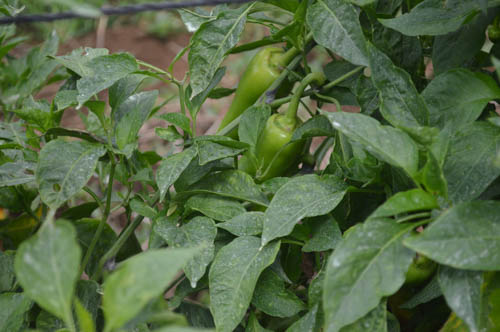ChiliPepper: (219, 48, 300, 137), (251, 115, 305, 185)
